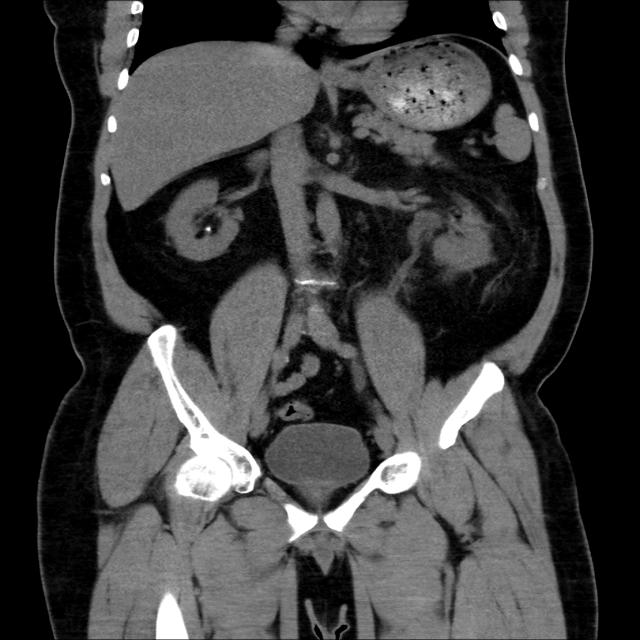kidneystone: (202, 219, 212, 232)
